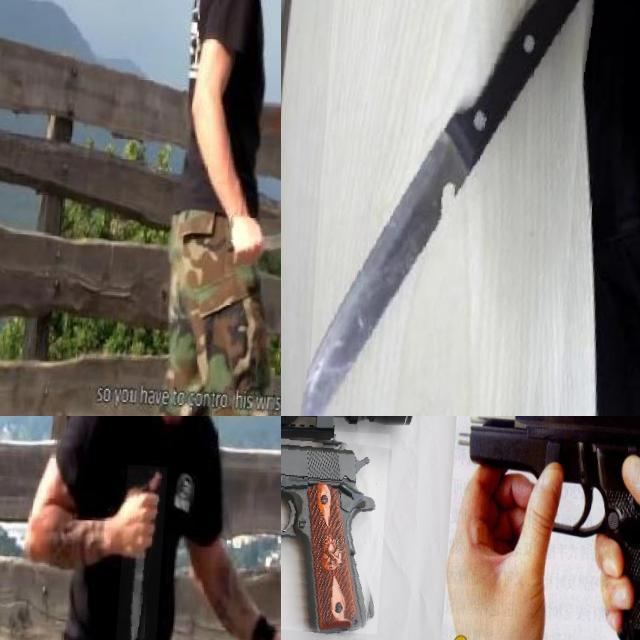-: (310, 0, 591, 416), (123, 463, 172, 640), (230, 213, 281, 277)
gun-knife-thesis - v11 Yolov5 augmented: (447, 416, 640, 640), (281, 422, 401, 631)
